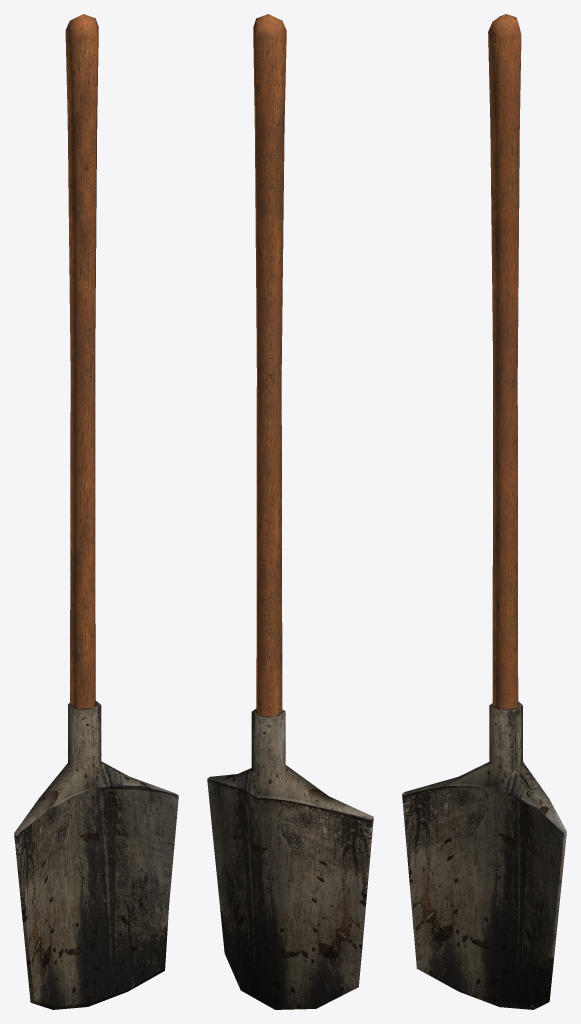
The model's file is Shovel.fbx.
3 renders of one model, left to right at view 1: azimuth 30°, elevation 25°; view 2: azimuth 150°, elevation 25°; view 3: azimuth 330°, elevation 25°, orthographic.
Visible parts, largest first — view 1: shovel; view 2: shovel; view 3: shovel.
Part boxes in pixels (box(x1,y1,x2,y2)): shovel: box(14, 14, 178, 1009); shovel: box(207, 14, 373, 1009); shovel: box(402, 14, 566, 1009).
Size of the model in its own units: 0.3183 by 1.86 by 0.1052.
